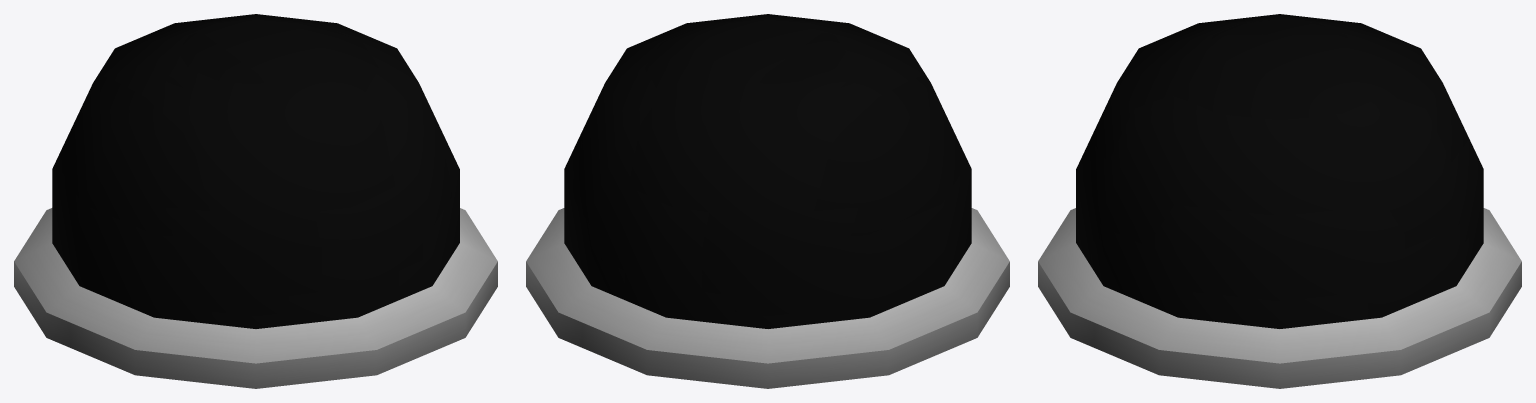
File: SM_Phone_Indicator.fbx
3 renders of one model, left to right at view 1: azimuth 30°, elevation 25°; view 2: azimuth 150°, elevation 25°; view 3: azimuth 270°, elevation 25°, orthographic.
Parts seen in each view (by area): view 1: Phone_Indicator; view 2: Phone_Indicator; view 3: Phone_Indicator.
Boxes of the visible parts, x1=… form: Phone_Indicator: x1=14, y1=14, x2=497, y2=388; Phone_Indicator: x1=526, y1=14, x2=1009, y2=388; Phone_Indicator: x1=1038, y1=14, x2=1521, y2=388.
Bounding box in the file's own units: 34 × 18.58 × 34.
